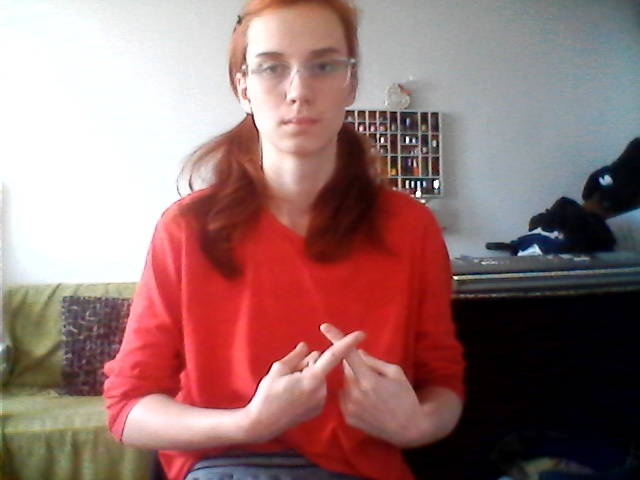x: (233, 314, 427, 457)
